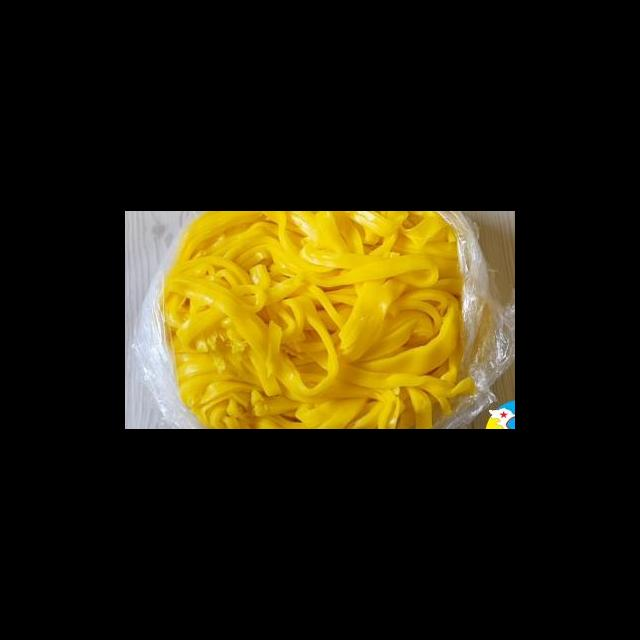mi: (157, 212, 481, 428)
